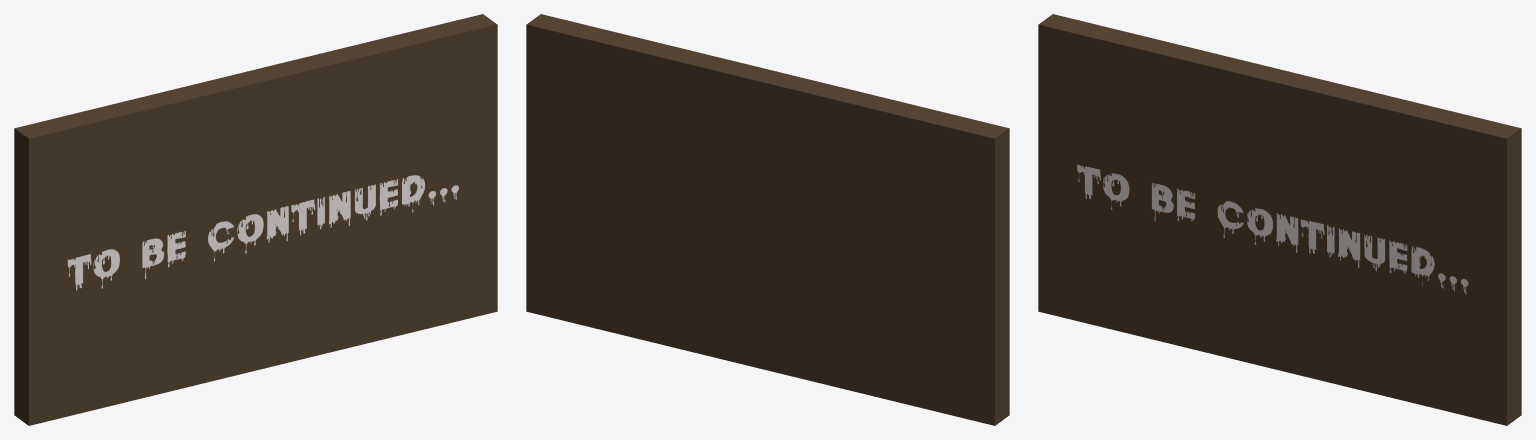
File: sign_polomljen (1).fbx
3 renders of one model, left to right at view 1: azimuth 30°, elevation 25°; view 2: azimuth 150°, elevation 25°; view 3: azimuth 330°, elevation 25°, orthographic.
Visible parts, largest first — view 1: Pieces_5, Pieces_4, Pieces_3, Pieces_2, Pieces_1; view 2: Pieces_3, Pieces_5, Pieces_4, Pieces_1, Pieces_2; view 3: Pieces_5, Pieces_4, Pieces_3, Pieces_2, Pieces_1.
Part boxes in pixels (<box>): Pieces_5: <box>232,42,423,364</box>; Pieces_4: <box>127,75,279,400</box>; Pieces_3: <box>14,90,168,425</box>; Pieces_2: <box>368,14,497,272</box>; Pieces_1: <box>355,190,497,346</box>; Pieces_3: <box>834,101,1009,425</box>; Pieces_5: <box>615,32,798,362</box>; Pieces_4: <box>736,77,910,386</box>; Pieces_1: <box>526,145,710,356</box>; Pieces_2: <box>526,14,662,249</box>; Pieces_5: <box>1248,67,1432,390</box>; Pieces_4: <box>1136,48,1288,372</box>; Pieces_3: <box>1038,14,1206,336</box>; Pieces_2: <box>1399,100,1521,386</box>; Pieces_1: <box>1364,252,1521,425</box>.
Size of the model in its own units: 289 by 169 by 15.49.
Materials: 2 (1 with a texture image).
